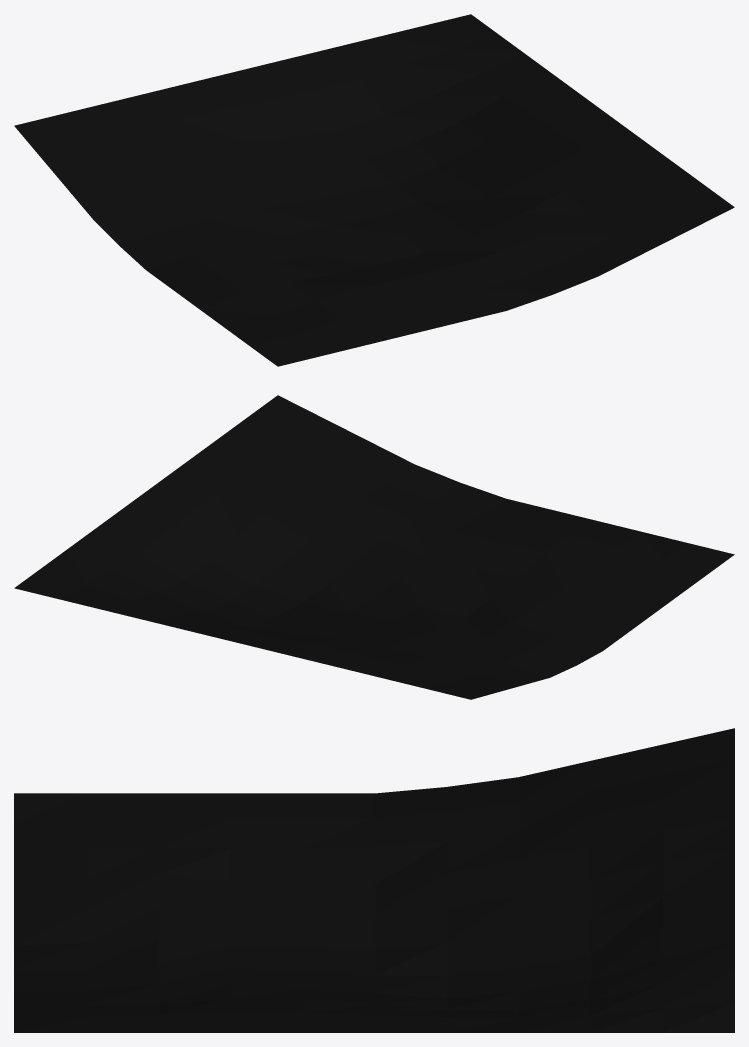
File: corner_0.obj
The picture shows the model from 3 angles, top to bottom: view 1: azimuth 30°, elevation 25°; view 2: azimuth 150°, elevation 25°; view 3: azimuth 270°, elevation 25°; orthographic projection. The views are drawn at different scales.
Parts seen in each view (by area): view 1: Plane; view 2: Plane; view 3: Plane.
Part boxes in pixels (box(x1,y1,x2,y2)): Plane: box(14, 14, 734, 366); Plane: box(14, 395, 734, 699); Plane: box(14, 728, 734, 1032).
Size of the model in its own units: 100 by 10.53 by 100.
